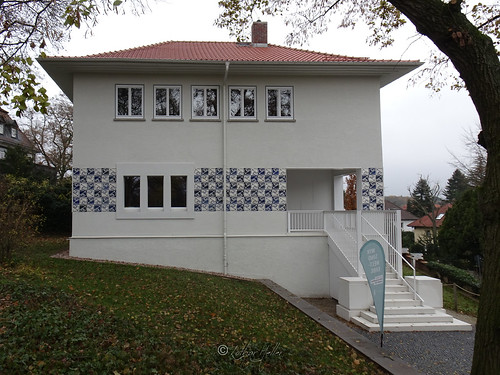medium: (36, 20, 432, 337)
